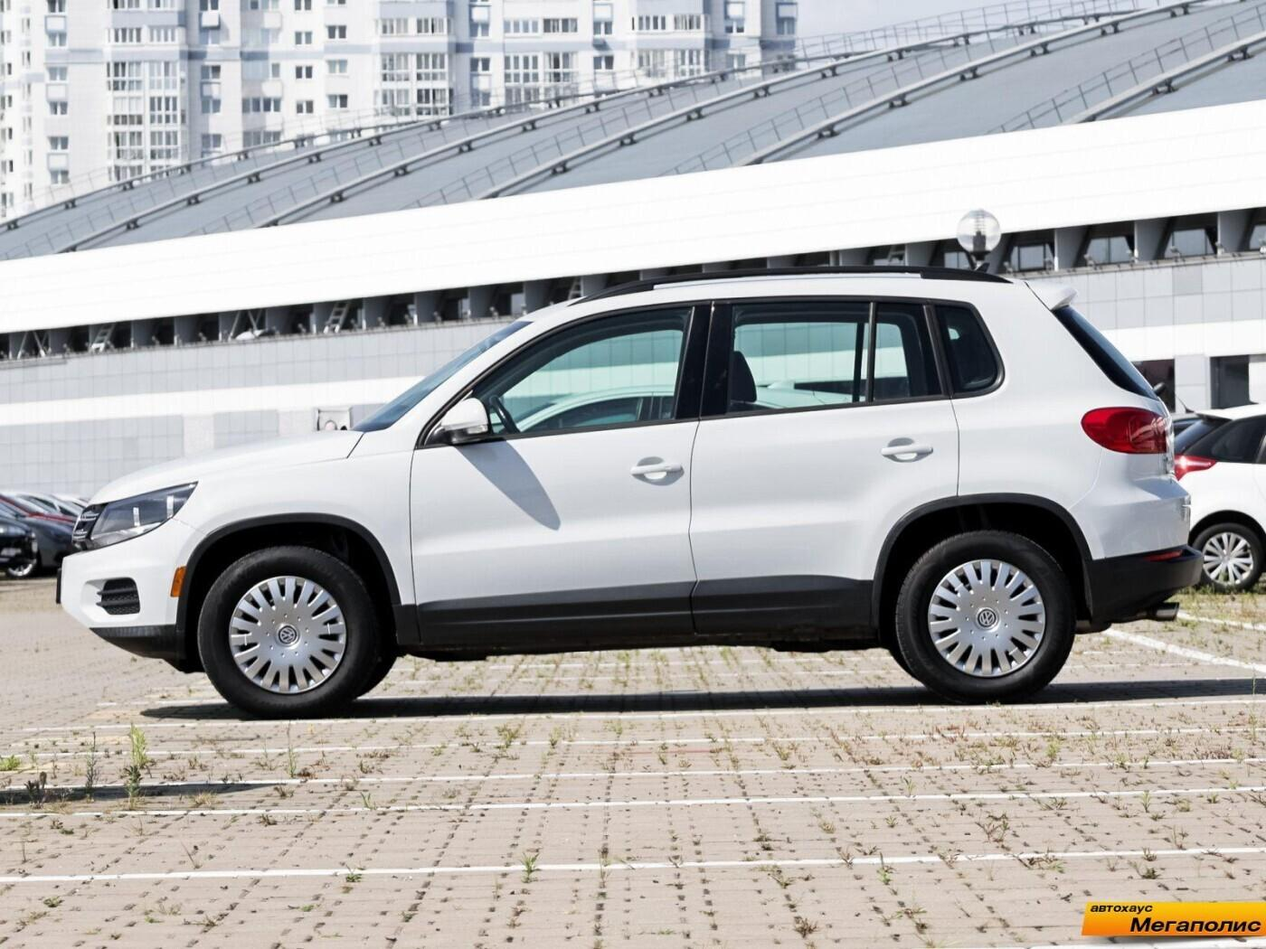Tiguan_2011-2018: (57, 271, 1191, 713)
